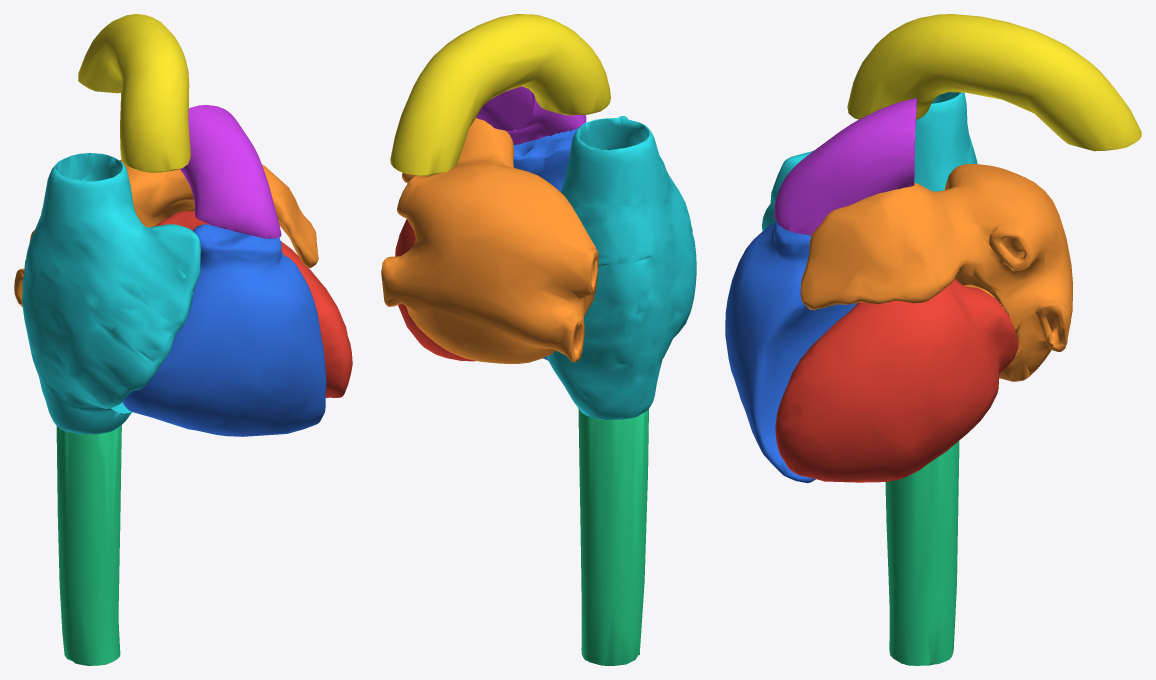
3 views of the same model, side by side, from view 1: azimuth 30°, elevation 25°; view 2: azimuth 150°, elevation 25°; view 3: azimuth 270°, elevation 25° (orthographic). The views are drawn at different scales.
Visible parts, largest first — view 1: FJ2439 | Wall of right atrium | mesh 01, FJ2423 | Cavity of right ventricle | mesh 01, FJ3441 | Inferior vena cava | mesh 01, FJ3411 | Arch of aorta | mesh 01, FJ2966 | Pulmonary trunk | mesh 01, FJ2438 | Wall of left atrium | mesh 01, FJ2422 | Cavity of left ventricle | mesh 01; view 2: FJ2438 | Wall of left atrium | mesh 01, FJ2439 | Wall of right atrium | mesh 01, FJ3411 | Arch of aorta | mesh 01, FJ3441 | Inferior vena cava | mesh 01, FJ2966 | Pulmonary trunk | mesh 01, FJ2423 | Cavity of right ventricle | mesh 01, FJ2422 | Cavity of left ventricle | mesh 01; view 3: FJ2422 | Cavity of left ventricle | mesh 01, FJ2438 | Wall of left atrium | mesh 01, FJ3411 | Arch of aorta | mesh 01, FJ2423 | Cavity of right ventricle | mesh 01, FJ3441 | Inferior vena cava | mesh 01, FJ2966 | Pulmonary trunk | mesh 01, FJ2439 | Wall of right atrium | mesh 01.
Boxes of the visible parts, x1,y1,x2,y2 form: FJ2439 | Wall of right atrium | mesh 01: (22, 153, 200, 434); FJ2423 | Cavity of right ventricle | mesh 01: (122, 224, 326, 436); FJ3441 | Inferior vena cava | mesh 01: (56, 425, 121, 665); FJ3411 | Arch of aorta | mesh 01: (78, 14, 190, 172); FJ2966 | Pulmonary trunk | mesh 01: (180, 105, 281, 238); FJ2438 | Wall of left atrium | mesh 01: (14, 159, 318, 306); FJ2422 | Cavity of left ventricle | mesh 01: (155, 211, 352, 397); FJ2438 | Wall of left atrium | mesh 01: (381, 117, 598, 363); FJ2439 | Wall of right atrium | mesh 01: (546, 116, 696, 419); FJ3411 | Arch of aorta | mesh 01: (390, 14, 610, 175); FJ3441 | Inferior vena cava | mesh 01: (578, 408, 648, 665); FJ2966 | Pulmonary trunk | mesh 01: (476, 86, 586, 144); FJ2423 | Cavity of right ventricle | mesh 01: (513, 128, 578, 360); FJ2422 | Cavity of left ventricle | mesh 01: (395, 219, 475, 361); FJ2422 | Cavity of left ventricle | mesh 01: (775, 278, 1018, 482); FJ2438 | Wall of left atrium | mesh 01: (800, 163, 1072, 381); FJ3411 | Arch of aorta | mesh 01: (847, 14, 1141, 151); FJ2423 | Cavity of right ventricle | mesh 01: (725, 221, 857, 483); FJ3441 | Inferior vena cava | mesh 01: (885, 441, 959, 665); FJ2966 | Pulmonary trunk | mesh 01: (774, 98, 916, 235); FJ2439 | Wall of right atrium | mesh 01: (762, 92, 977, 230).
Bounding box in the file's own units: 0.1065 × 0.2221 × 0.1236.
